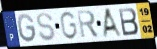A: (102, 7, 124, 38)
B: (118, 6, 140, 37)
G: (16, 12, 37, 44), (59, 10, 79, 41)
R: (76, 9, 101, 41)
S: (36, 12, 57, 43)
